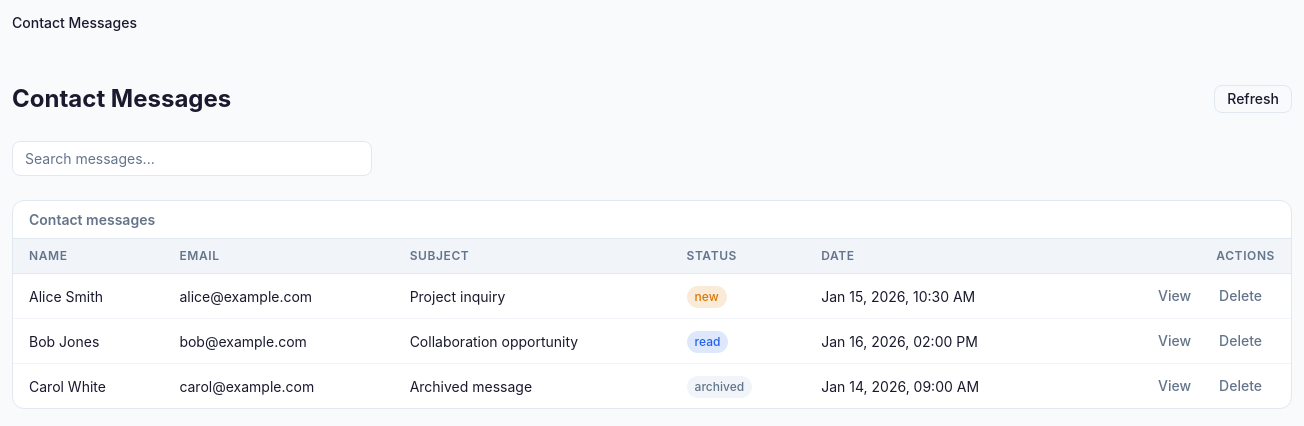
it: ContactMessagesPage › filters messages by search query
Type "Alice" into the search field labelled "Search messages...". click: (192, 158)
box: [12, 141, 372, 176]
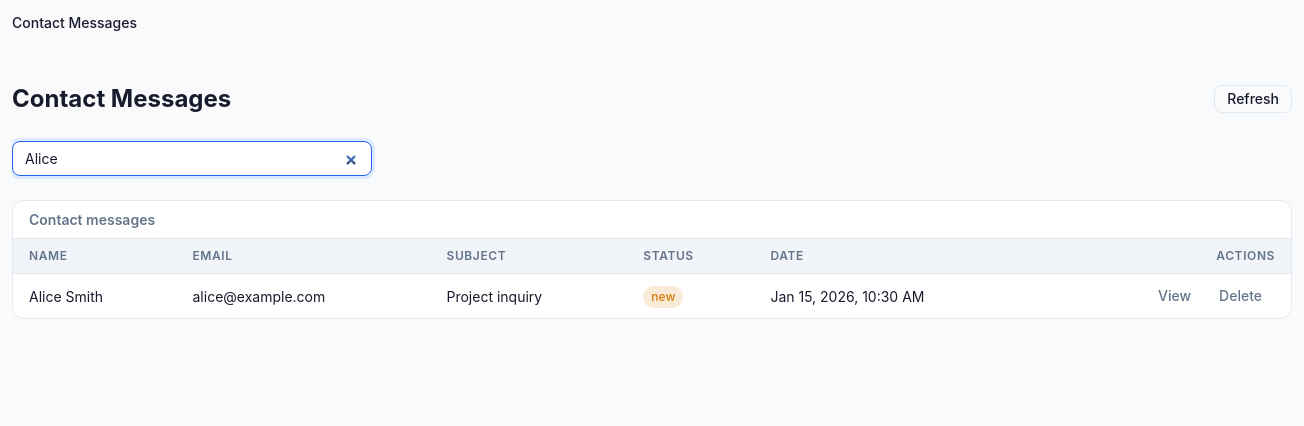
Check: the text "Alice Smith" is shown, box [13, 274, 176, 318]
Check: the text "Bob Jones" is gone
Check: the text "Carol White" is gone
